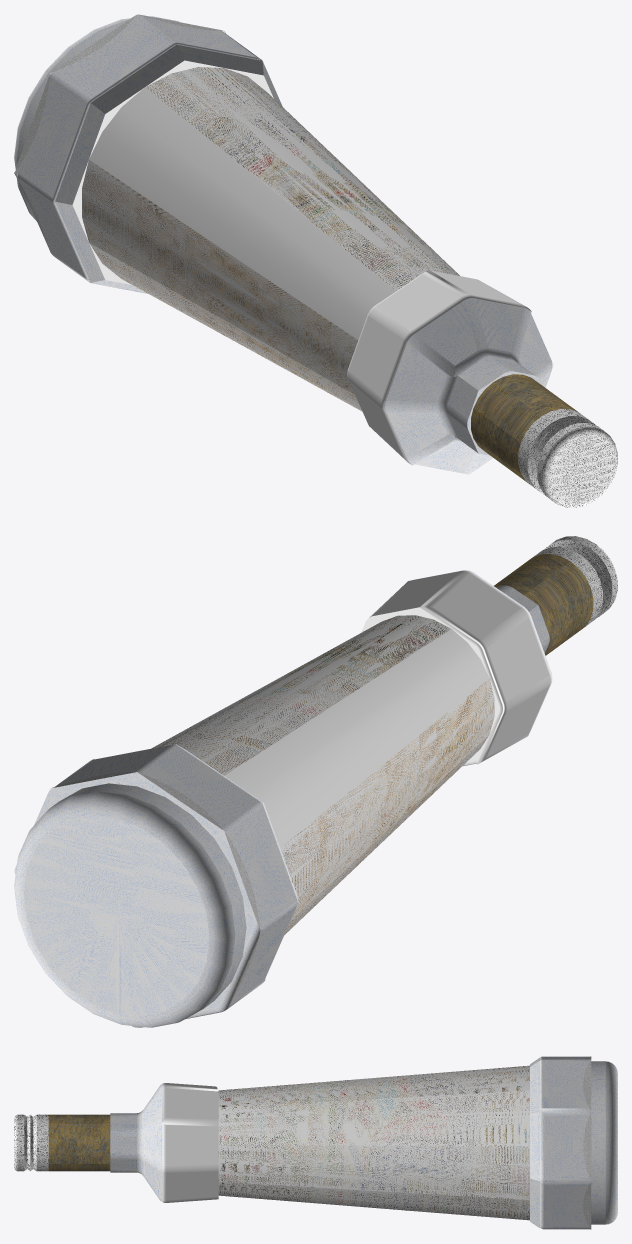
Rendered from model_scale.obj.
3 renders of one model, top to bottom at view 1: azimuth 30°, elevation 25°; view 2: azimuth 150°, elevation 25°; view 3: azimuth 270°, elevation 25°, orthographic. The views are drawn at different scales.
Visible parts, largest first — view 1: mesh1_mesh1-geometry; view 2: mesh1_mesh1-geometry; view 3: mesh1_mesh1-geometry.
Part boxes in pixels (x1,y1,x2,y2): mesh1_mesh1-geometry: (14, 14, 617, 507); mesh1_mesh1-geometry: (14, 536, 617, 1027); mesh1_mesh1-geometry: (14, 1056, 617, 1229).
Size of the model in its own units: 0.0752 by 0.0748 by 0.2465.
